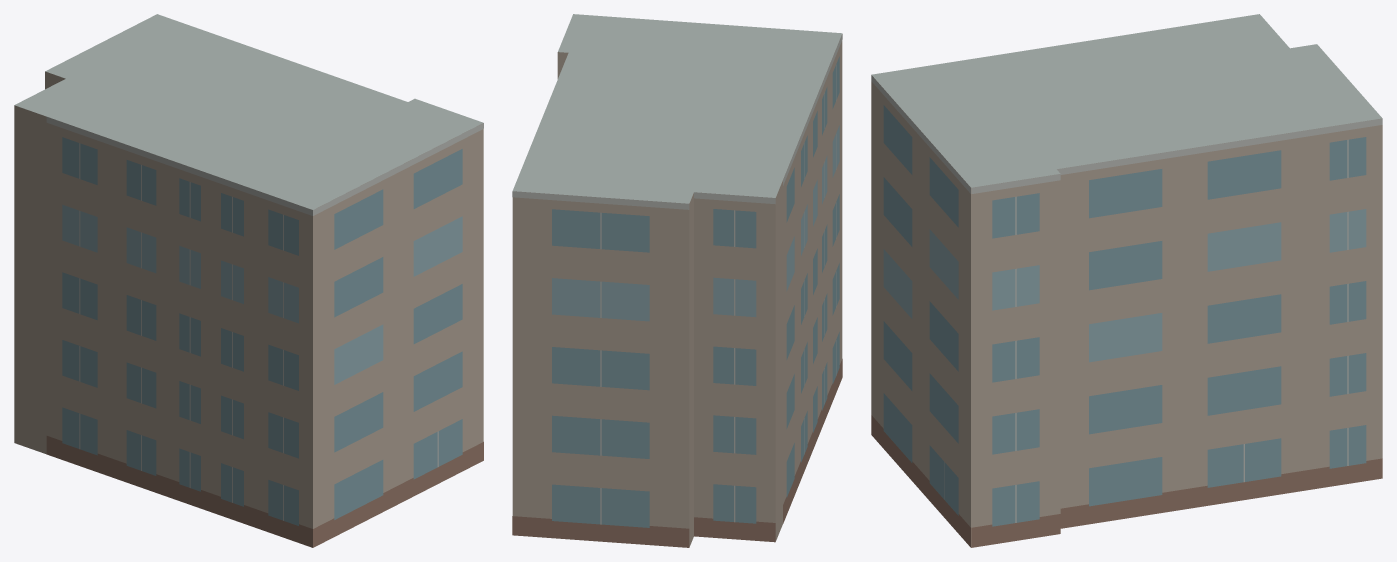
The model's file is survey-upis-33024746.glb.
The picture shows the model from 3 angles, left to right: view 1: azimuth 30°, elevation 25°; view 2: azimuth 150°, elevation 25°; view 3: azimuth 270°, elevation 25°; orthographic projection. The views are drawn at different scales.
Parts seen in each view (by area): view 1: survey-upis-33024746.tmp; view 2: survey-upis-33024746.tmp; view 3: survey-upis-33024746.tmp.
Boxes of the visible parts, x1,y1,x2,y2 form: survey-upis-33024746.tmp: [14, 14, 483, 547]; survey-upis-33024746.tmp: [512, 14, 842, 547]; survey-upis-33024746.tmp: [871, 14, 1382, 547].
Size of the model in its own units: 14.08 by 13.6 by 17.51.
